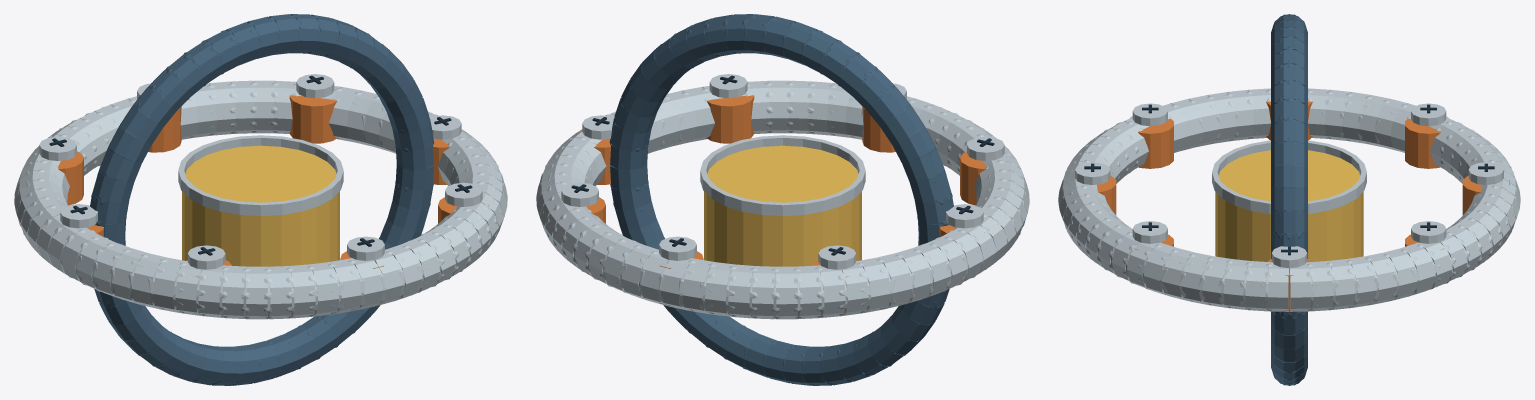
Rendered from 06_L73_CarrierGimbalAssembly.fbx.
3 renders of one model, left to right at view 1: azimuth 30°, elevation 25°; view 2: azimuth 150°, elevation 25°; view 3: azimuth 270°, elevation 25°, orthographic. The views are drawn at different scales.
Parts seen in each view (by area): view 1: CarrierGimbalAssembly_Part_0258, CarrierGimbalAssembly_Part_0259, CarrierGimbalAssembly_Part_0254, CarrierGimbalAssembly_Part_0018, CarrierGimbalAssembly_Part_0025, CarrierGimbalAssembly_Part_0019, CarrierGimbalAssembly_Part_0021, CarrierGimbalAssembly_Part_0020, CarrierGimbalAssembly_Part_0017, CarrierGimbalAssembly_Part_0022, CarrierGimbalAssembly_Part_0053, CarrierGimbalAssembly_Part_0052 (+91 smaller); view 2: CarrierGimbalAssembly_Part_0258, CarrierGimbalAssembly_Part_0259, CarrierGimbalAssembly_Part_0230, CarrierGimbalAssembly_Part_0045, CarrierGimbalAssembly_Part_0038, CarrierGimbalAssembly_Part_0044, CarrierGimbalAssembly_Part_0042, CarrierGimbalAssembly_Part_0043, CarrierGimbalAssembly_Part_0046, CarrierGimbalAssembly_Part_0041, CarrierGimbalAssembly_Part_0010, CarrierGimbalAssembly_Part_0011 (+91 smaller); view 3: CarrierGimbalAssembly_Part_0258, CarrierGimbalAssembly_Part_0259, CarrierGimbalAssembly_Part_0238, CarrierGimbalAssembly_Part_0246, CarrierGimbalAssembly_Part_0001, CarrierGimbalAssembly_Part_0062, CarrierGimbalAssembly_Part_0000, CarrierGimbalAssembly_Part_0061, CarrierGimbalAssembly_Part_0063, CarrierGimbalAssembly_Part_0002, CarrierGimbalAssembly_Part_0003, CarrierGimbalAssembly_Part_0060 (+65 smaller).
Boxes of the visible parts, box(x1,y1,x2,y2) form: CarrierGimbalAssembly_Part_0258: box(182, 145, 339, 266); CarrierGimbalAssembly_Part_0259: box(178, 135, 343, 215); CarrierGimbalAssembly_Part_0254: box(289, 95, 336, 143); CarrierGimbalAssembly_Part_0018: box(309, 262, 338, 316); CarrierGimbalAssembly_Part_0025: box(153, 257, 186, 312); CarrierGimbalAssembly_Part_0019: box(289, 264, 315, 318); CarrierGimbalAssembly_Part_0021: box(246, 266, 267, 319); CarrierGimbalAssembly_Part_0020: box(267, 266, 291, 319); CarrierGimbalAssembly_Part_0017: box(329, 259, 361, 313); CarrierGimbalAssembly_Part_0022: box(222, 265, 246, 318); CarrierGimbalAssembly_Part_0053: box(254, 80, 275, 133); CarrierGimbalAssembly_Part_0052: box(231, 80, 254, 133); CarrierGimbalAssembly_Part_0258: box(704, 145, 861, 266); CarrierGimbalAssembly_Part_0259: box(700, 135, 865, 215); CarrierGimbalAssembly_Part_0230: box(707, 95, 754, 143); CarrierGimbalAssembly_Part_0045: box(705, 262, 734, 316); CarrierGimbalAssembly_Part_0038: box(857, 257, 890, 312); CarrierGimbalAssembly_Part_0044: box(728, 264, 754, 318); CarrierGimbalAssembly_Part_0042: box(775, 266, 797, 319); CarrierGimbalAssembly_Part_0043: box(752, 266, 776, 319); CarrierGimbalAssembly_Part_0046: box(682, 259, 714, 313); CarrierGimbalAssembly_Part_0041: box(797, 265, 821, 318); CarrierGimbalAssembly_Part_0010: box(768, 80, 790, 133); CarrierGimbalAssembly_Part_0011: box(789, 80, 812, 133); CarrierGimbalAssembly_Part_0258: box(1215, 150, 1363, 261); CarrierGimbalAssembly_Part_0259: box(1212, 140, 1366, 213); CarrierGimbalAssembly_Part_0238: box(1138, 118, 1173, 168); CarrierGimbalAssembly_Part_0246: box(1405, 118, 1440, 168); CarrierGimbalAssembly_Part_0001: box(1245, 261, 1270, 311); CarrierGimbalAssembly_Part_0062: box(1308, 261, 1333, 311); CarrierGimbalAssembly_Part_0000: box(1268, 262, 1289, 311); CarrierGimbalAssembly_Part_0061: box(1328, 259, 1355, 309); CarrierGimbalAssembly_Part_0063: box(1289, 262, 1310, 311); CarrierGimbalAssembly_Part_0002: box(1223, 259, 1250, 309); CarrierGimbalAssembly_Part_0003: box(1202, 256, 1231, 307); CarrierGimbalAssembly_Part_0060: box(1347, 256, 1376, 307).
Size of the model in its own units: 143 by 115 by 143.
